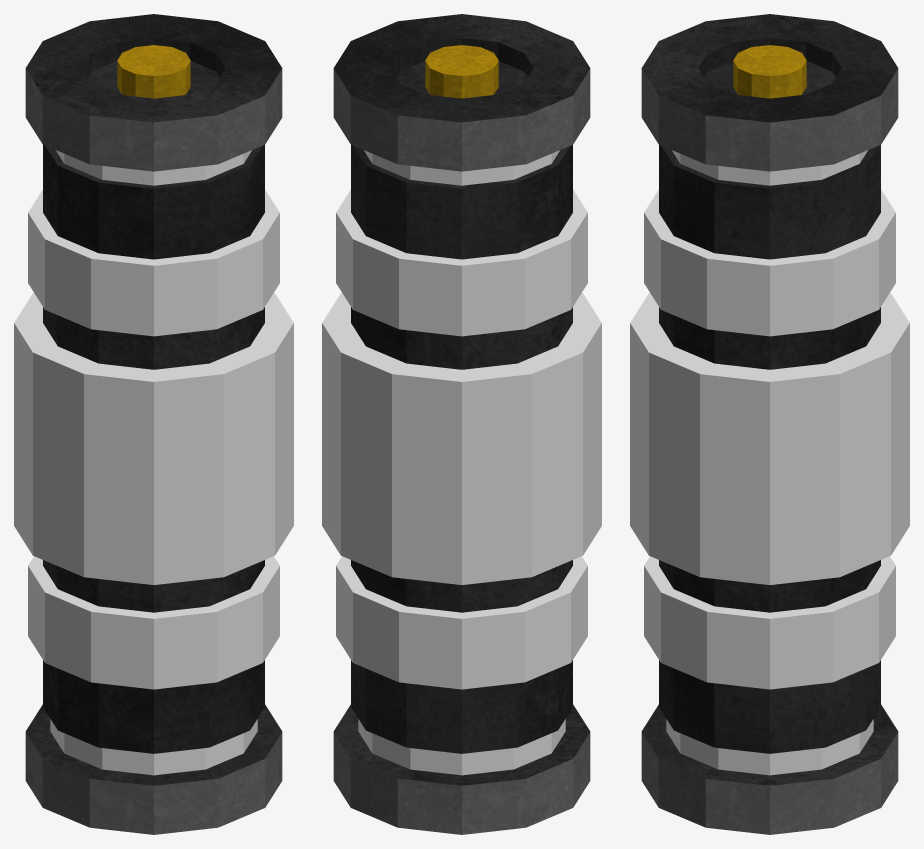
The model's file is Battery.fbx.
The picture shows the model from 3 angles, left to right: view 1: azimuth 30°, elevation 25°; view 2: azimuth 150°, elevation 25°; view 3: azimuth 270°, elevation 25°; orthographic projection.
Parts seen in each view (by area): view 1: Battery; view 2: Battery; view 3: Battery.
Part boxes in pixels (x1=…): Battery: x1=14, y1=14, x2=293, y2=834; Battery: x1=322, y1=14, x2=601, y2=834; Battery: x1=630, y1=14, x2=909, y2=834.
Bounding box in the file's own units: 44.29 × 127 × 44.29.
Materials: 2 (1 with a texture image).
